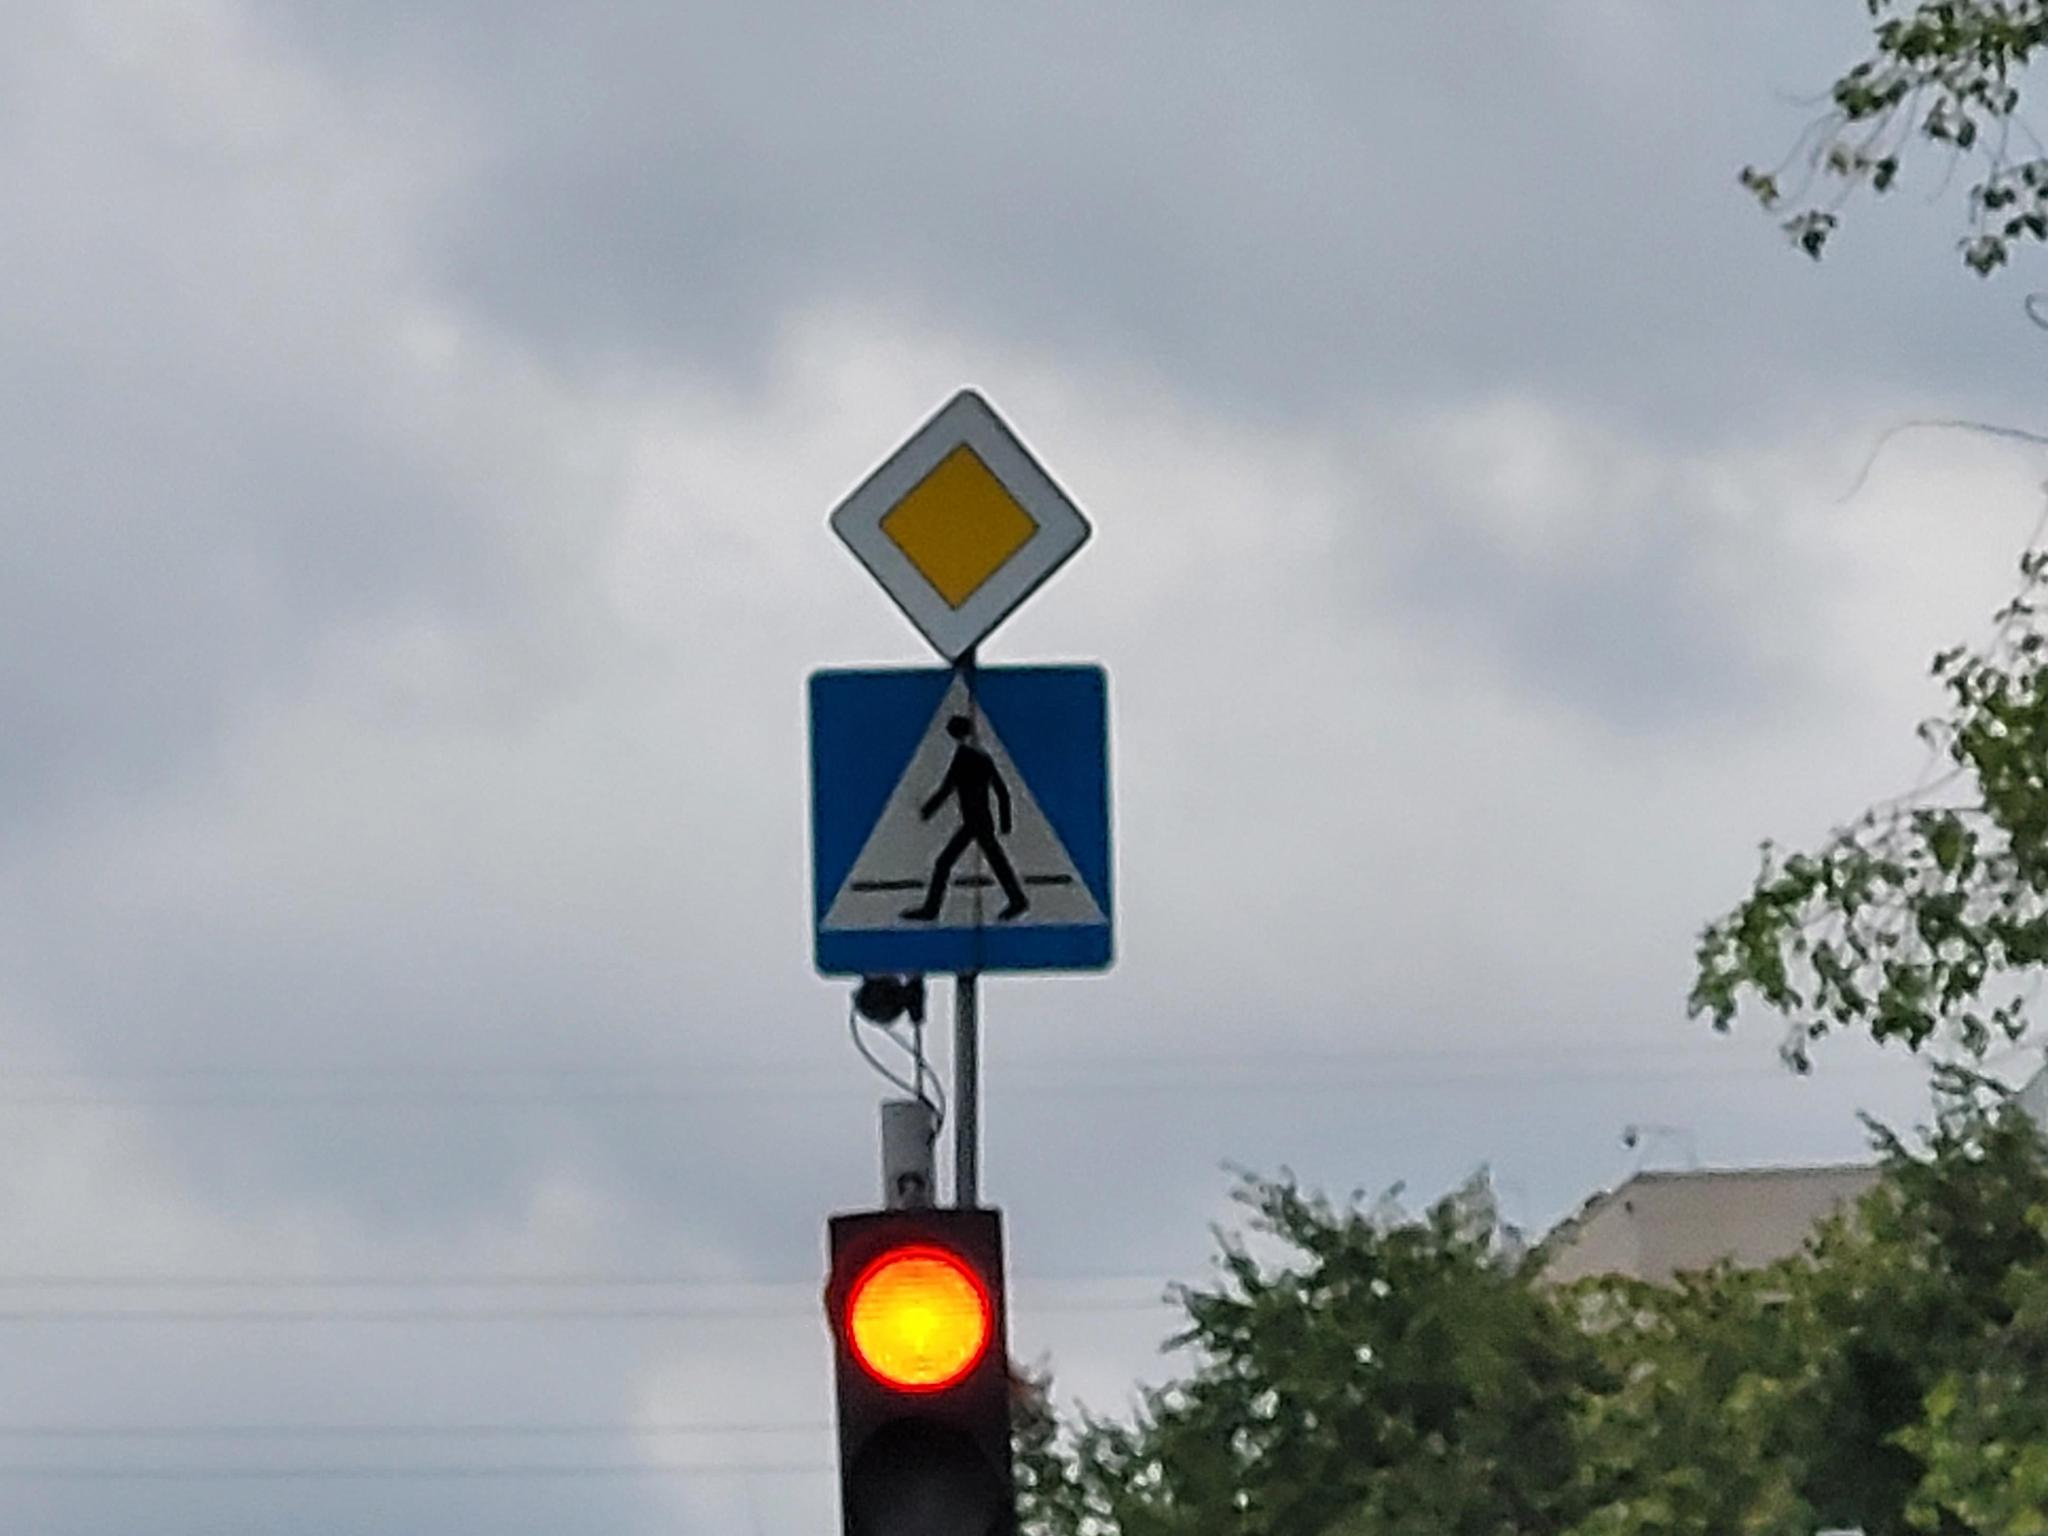information: (806, 671, 1109, 968), (822, 381, 1093, 662)
